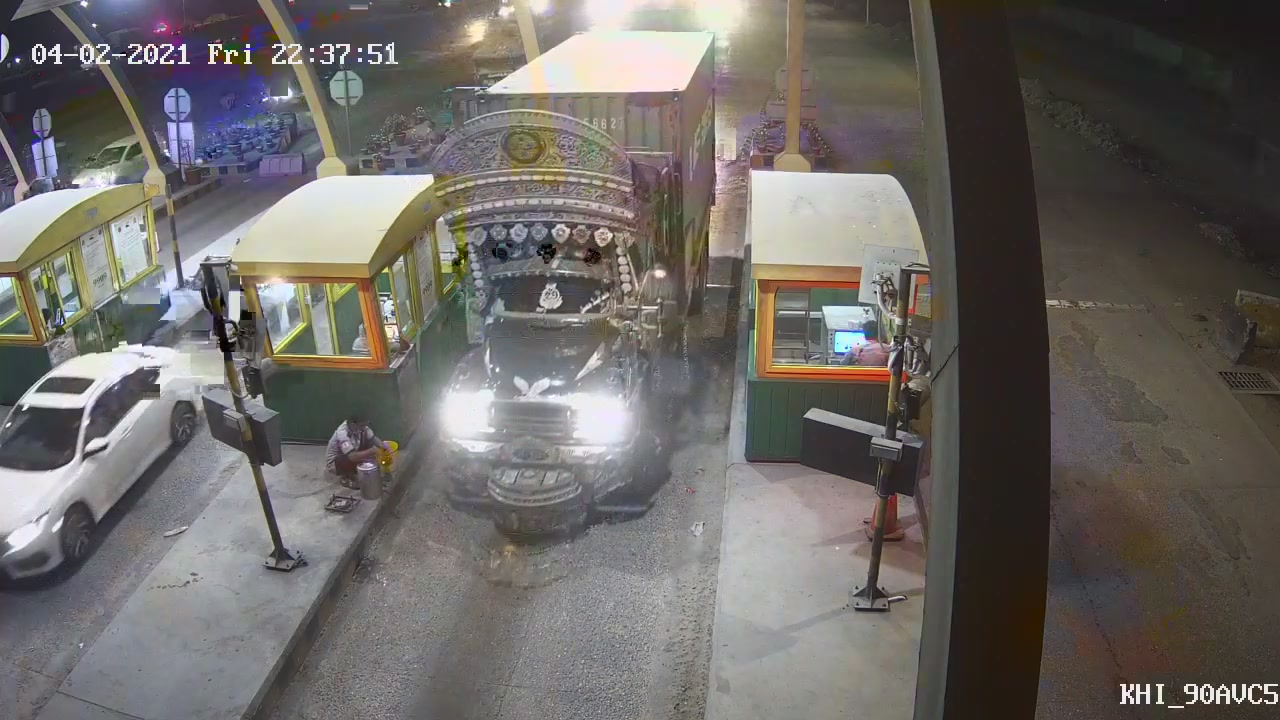F5: (421, 28, 721, 545)
